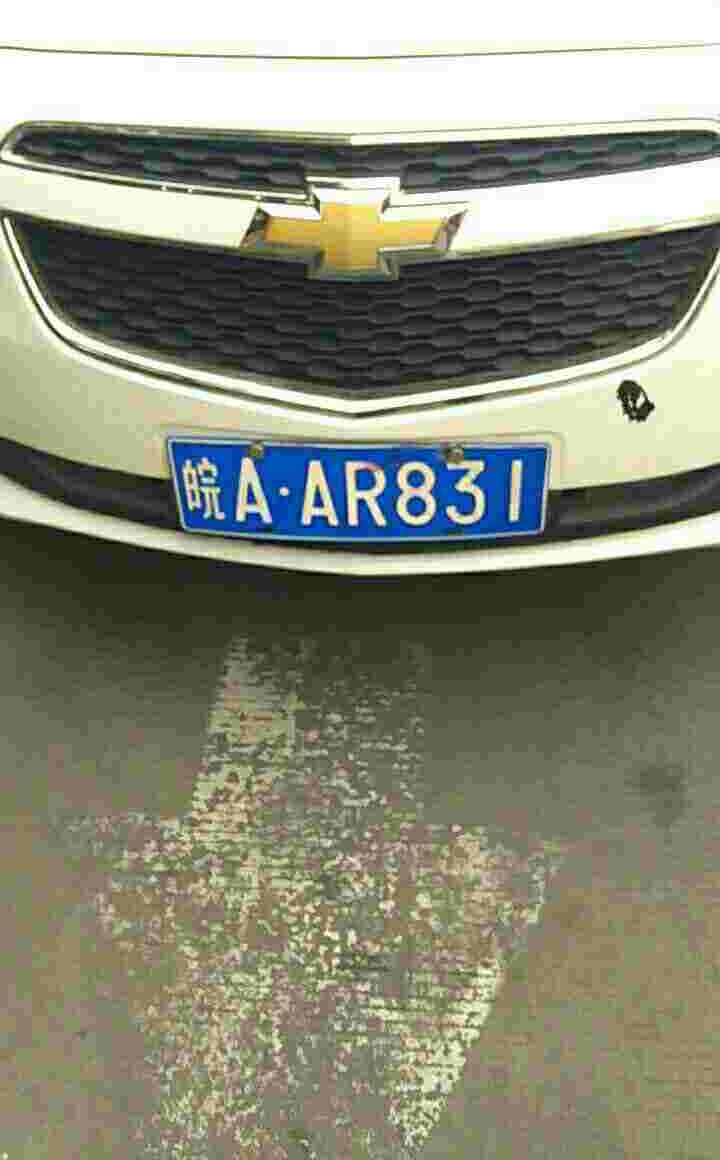license_plate: (163, 442, 561, 544)
